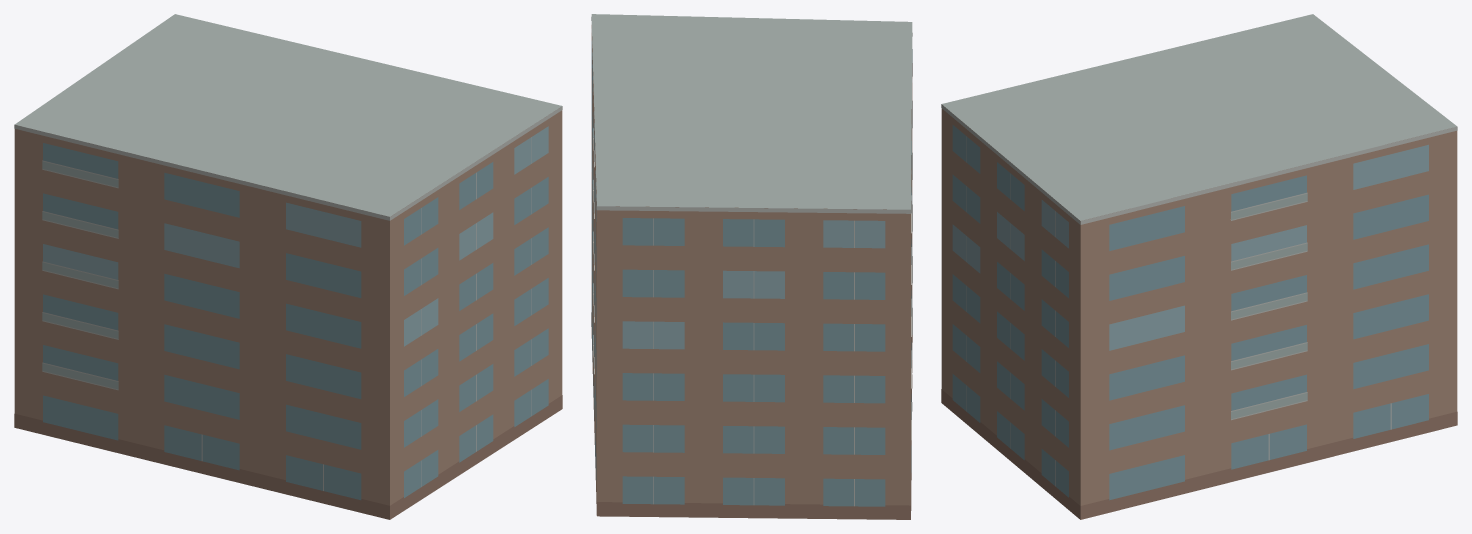
Rendered from survey-upis-32863841.glb.
3 renders of one model, left to right at view 1: azimuth 30°, elevation 25°; view 2: azimuth 150°, elevation 25°; view 3: azimuth 270°, elevation 25°, orthographic. The views are drawn at different scales.
Parts seen in each view (by area): view 1: survey-upis-32863841.tmp; view 2: survey-upis-32863841.tmp; view 3: survey-upis-32863841.tmp.
Part boxes in pixels (box(x1,y1,x2,y2)): survey-upis-32863841.tmp: box(14, 14, 562, 519); survey-upis-32863841.tmp: box(591, 14, 912, 519); survey-upis-32863841.tmp: box(941, 14, 1457, 519).
Size of the model in its own units: 27.19 by 18.3 by 28.64.
